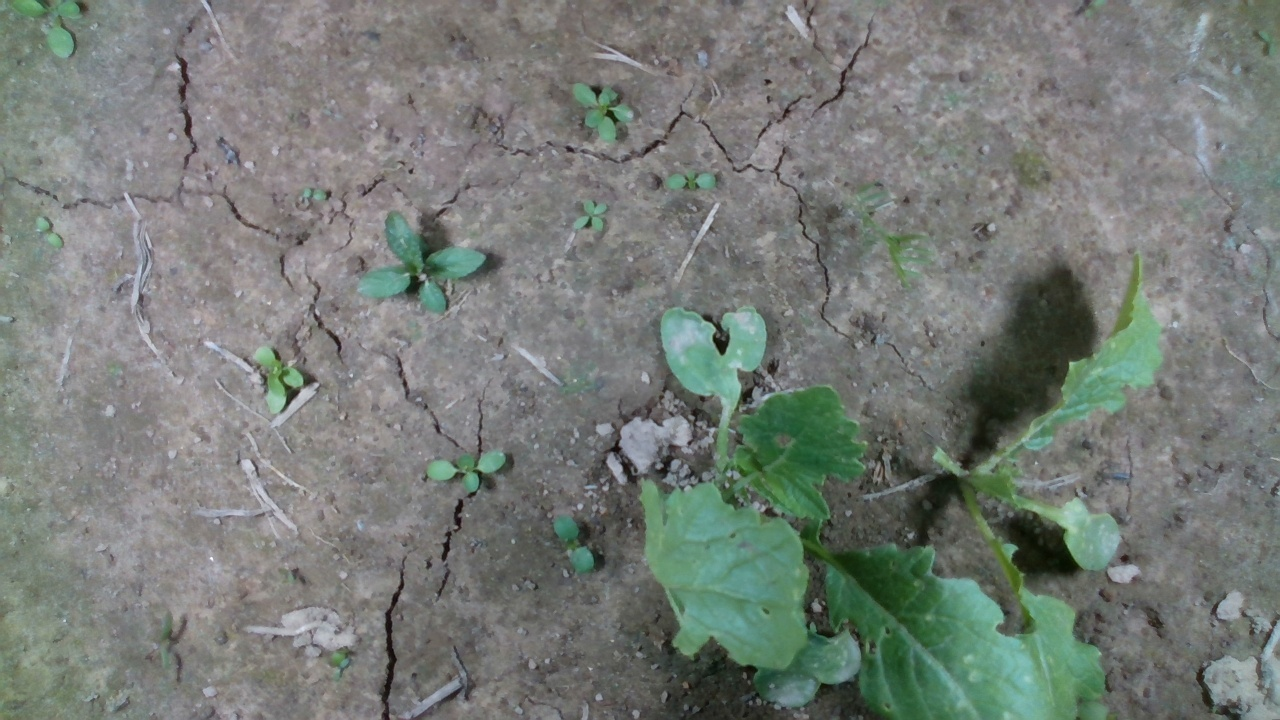weed: (354, 208, 491, 316), (570, 81, 637, 143), (422, 450, 508, 497), (249, 347, 308, 415), (550, 512, 596, 580), (664, 167, 715, 197), (572, 198, 608, 236), (32, 215, 64, 251), (298, 184, 328, 199)
